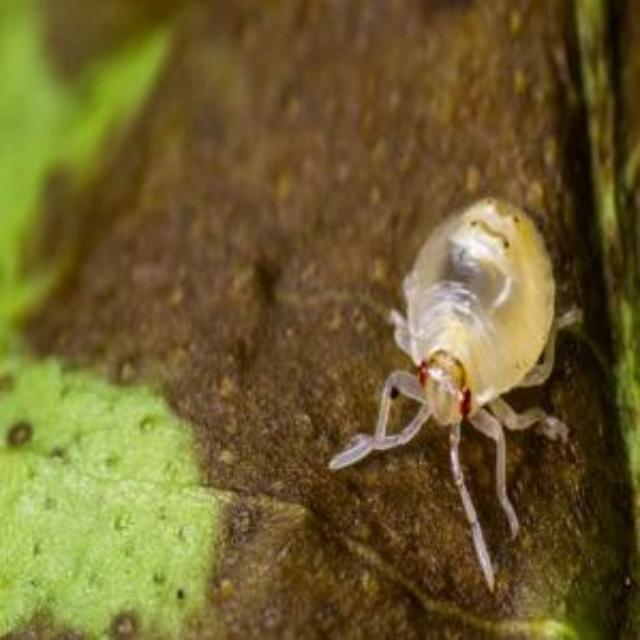spider mite: (294, 168, 592, 540)
